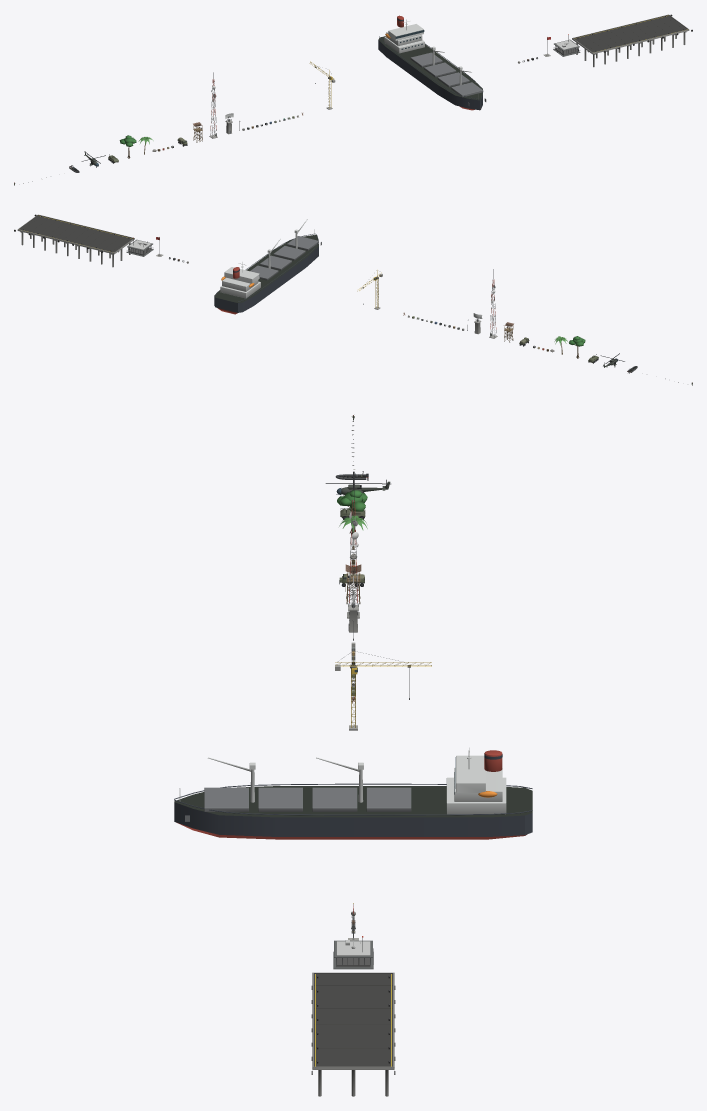
The model's file is assets.glb.
3 views of the same model, one above another, from view 1: azimuth 30°, elevation 25°; view 2: azimuth 150°, elevation 25°; view 3: azimuth 270°, elevation 25° (orthographic). The views are drawn at different scales.
Visible parts, largest first — view 1: CargoShip, Pier, TowerCab; view 2: CargoShip, Pier, TowerCab; view 3: CargoShip, Pier, TowerCab.
Boxes of the visible parts, box(x1,y1,x2,y2) form: CargoShip: box(378, 15, 486, 110); Pier: box(572, 14, 692, 67); TowerCab: box(553, 34, 580, 56); CargoShip: box(214, 219, 321, 314); Pier: box(14, 214, 134, 267); TowerCab: box(126, 237, 153, 256); CargoShip: box(174, 747, 532, 839); Pier: box(311, 972, 395, 1096); TowerCab: box(333, 936, 373, 969).
Bounding box in the file's own units: 414 × 48.6 × 96.16.
